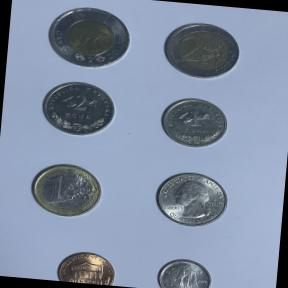coin: (38, 0, 139, 76), (156, 16, 248, 86), (33, 76, 124, 144), (150, 166, 234, 232), (25, 159, 106, 222), (51, 246, 120, 286), (153, 254, 219, 288)
